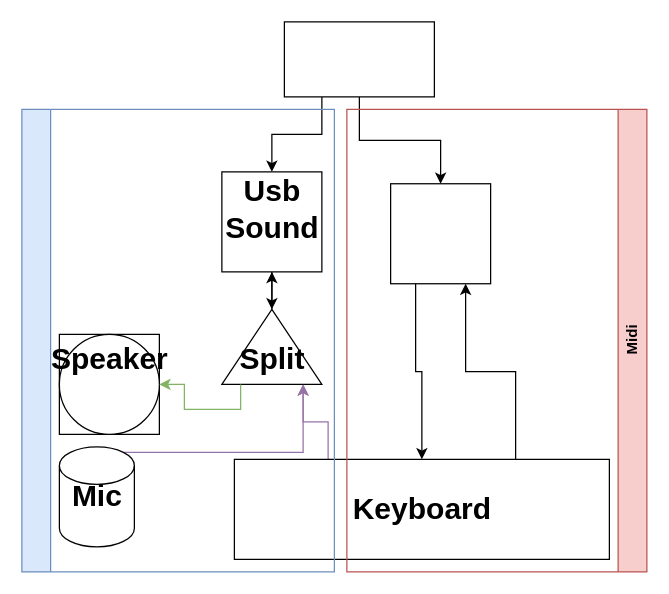
Some shapes in this 669 by 594 pixel diagram are drawn without their labels. The shapes that lost their labels are listed below. From the top down, each one's centre as x and y in pixels, then its label:
At pixel 358 59: "Pi".
At pixel 440 233: "Usb Midi".
At pixel 177 340: "Audio".
